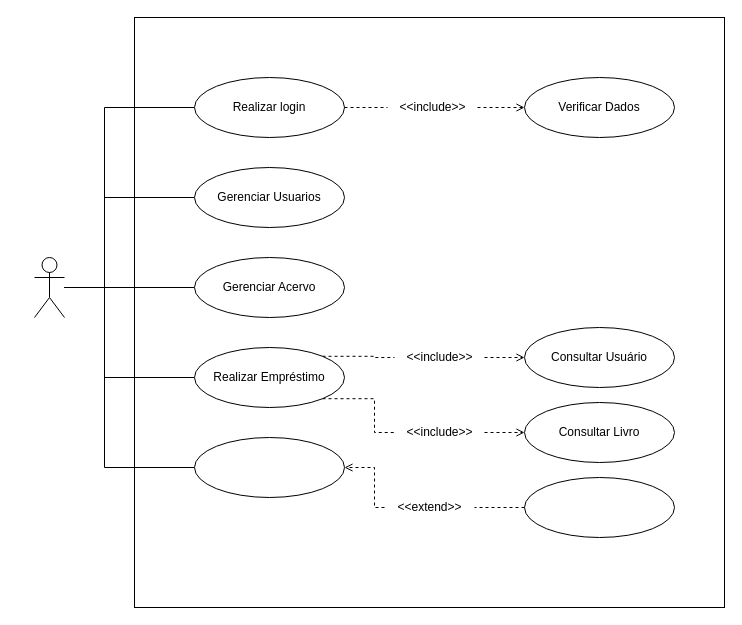
Some shapes in this 742 by 625 pixel diagram are drawn without their labels. The centre of each missing label's shape, as x and y in pixels:
Bibliotecario: (49,287)
Calcular Multa: (599,507)
Registrar Devolução: (269,467)
